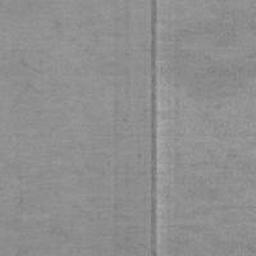Welding line: (151, 0, 157, 256)
